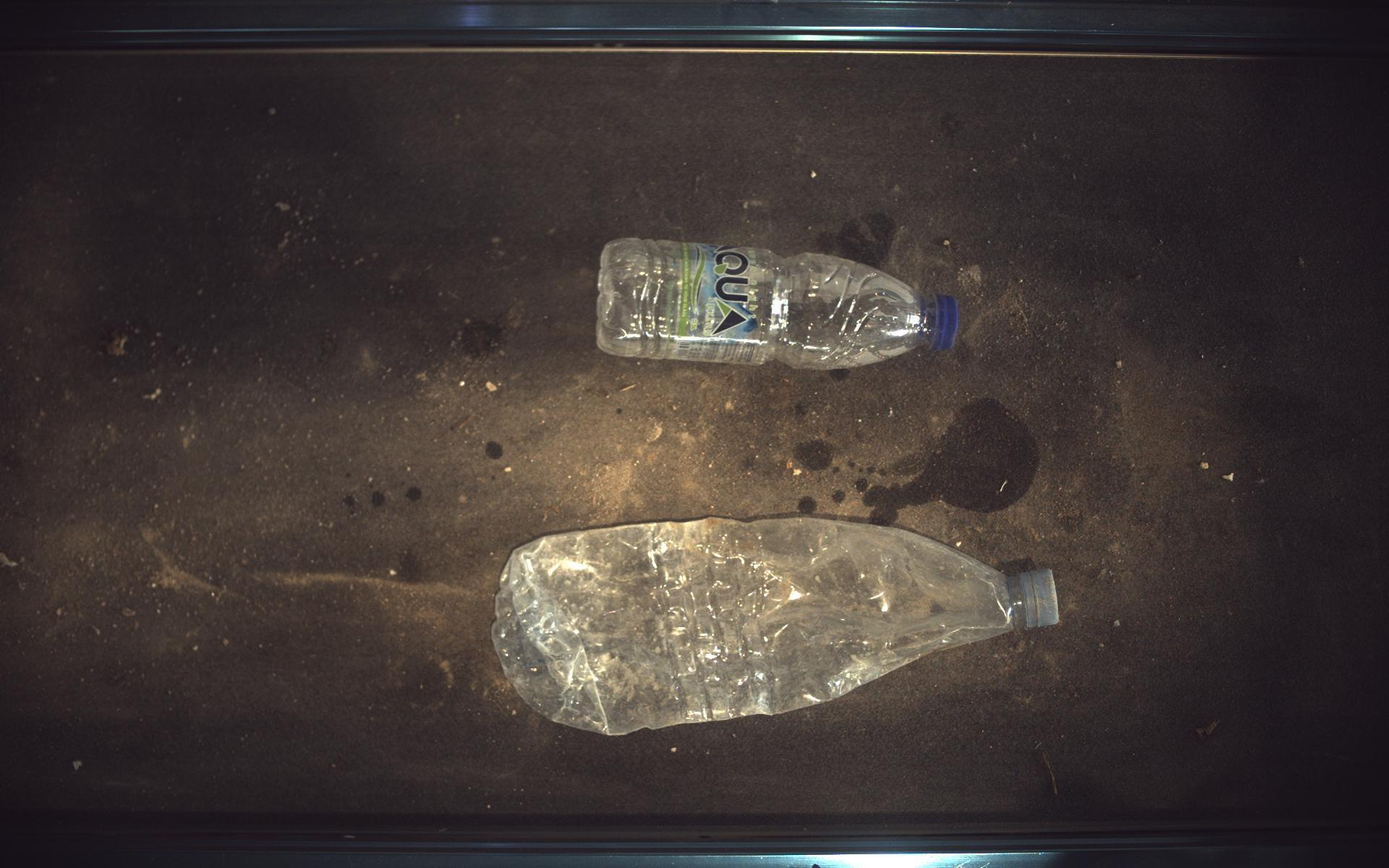general_w: (493, 519, 1061, 736), (597, 237, 960, 370)
